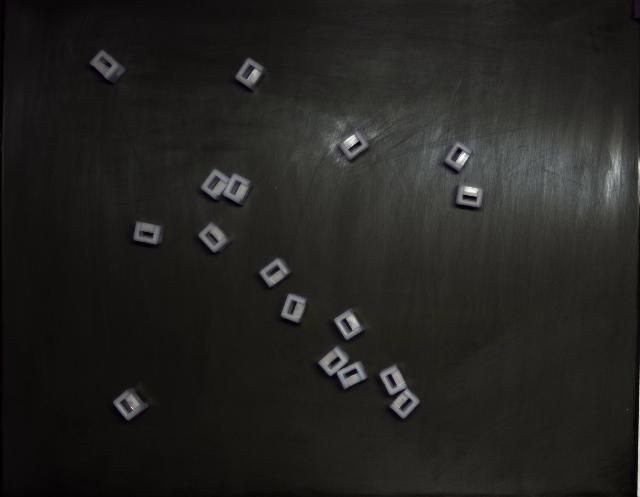fourth_side: (90, 50, 126, 84), (112, 389, 149, 421), (235, 58, 266, 91), (199, 222, 232, 253), (222, 174, 252, 205), (334, 309, 364, 340), (318, 346, 349, 376), (259, 259, 291, 288), (379, 364, 408, 396), (390, 389, 420, 419), (339, 131, 369, 160), (338, 361, 368, 390), (444, 141, 472, 172), (281, 294, 308, 324), (134, 221, 165, 245), (456, 185, 484, 208)
